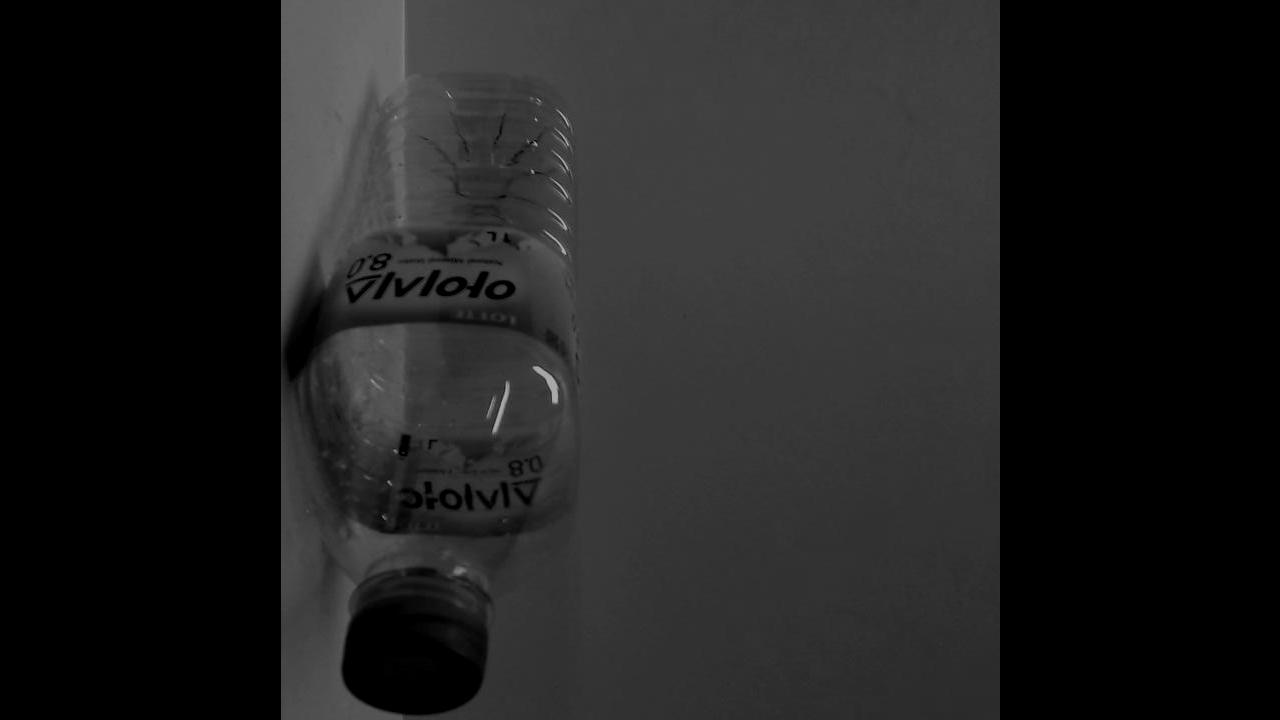bottle: (280, 61, 606, 720)
